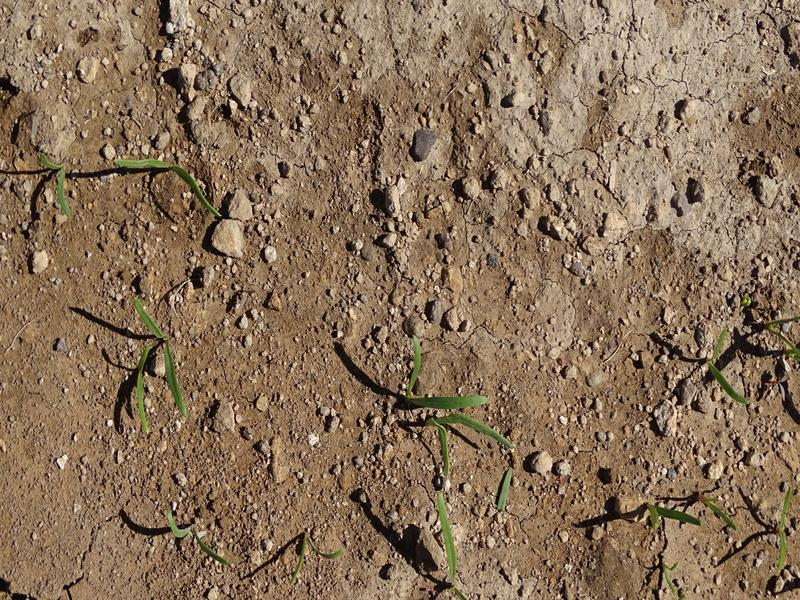Espinaca: (395, 354, 515, 470), (120, 292, 197, 427), (109, 156, 229, 220), (636, 492, 740, 544), (424, 491, 475, 588), (701, 331, 752, 409), (43, 154, 76, 216), (774, 487, 796, 570)
